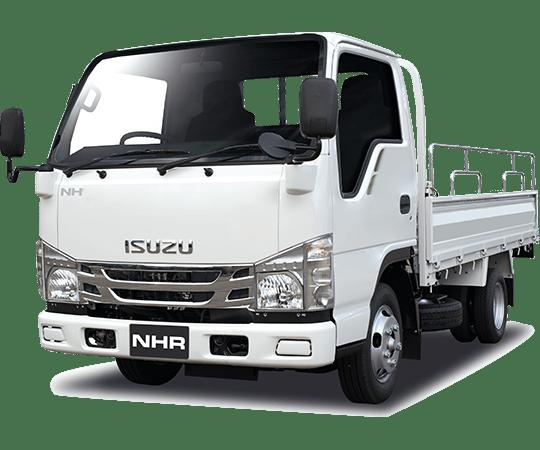truck: (1, 32, 540, 404)
